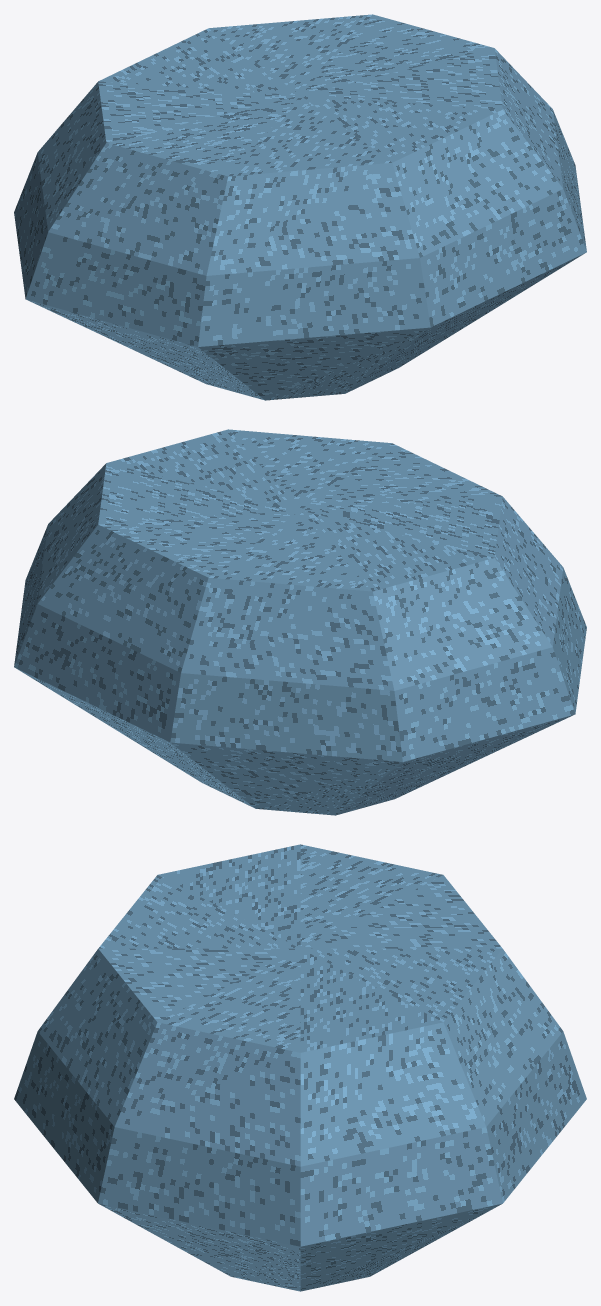
The model's file is blue_topaz.glb.
3 views of the same model, one above another, from view 1: azimuth 30°, elevation 25°; view 2: azimuth 150°, elevation 25°; view 3: azimuth 270°, elevation 25° (orthographic). The views are drawn at different scales.
Visible parts, largest first — view 1: block_faceted cut stone; view 2: block_faceted cut stone; view 3: block_faceted cut stone.
Part boxes in pixels (<box>): block_faceted cut stone: <box>14,14,586,400</box>; block_faceted cut stone: <box>14,429,586,815</box>; block_faceted cut stone: <box>14,844,586,1291</box>.
Size of the model in its own units: 0.0505 by 0.0246 by 0.0414.
Materials: 1 (1 with a texture image).
